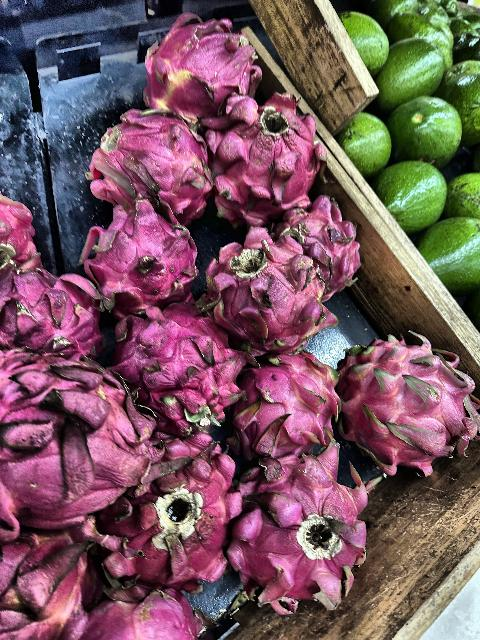buah-naga-matang: (0, 341, 160, 517), (225, 452, 369, 602), (334, 326, 478, 472), (124, 417, 234, 587), (111, 294, 239, 426), (74, 190, 208, 304), (211, 225, 329, 352), (144, 12, 262, 134), (210, 93, 318, 213), (83, 114, 208, 214), (237, 356, 347, 452), (0, 512, 82, 640), (0, 263, 110, 355), (282, 190, 361, 292), (0, 195, 42, 273)
